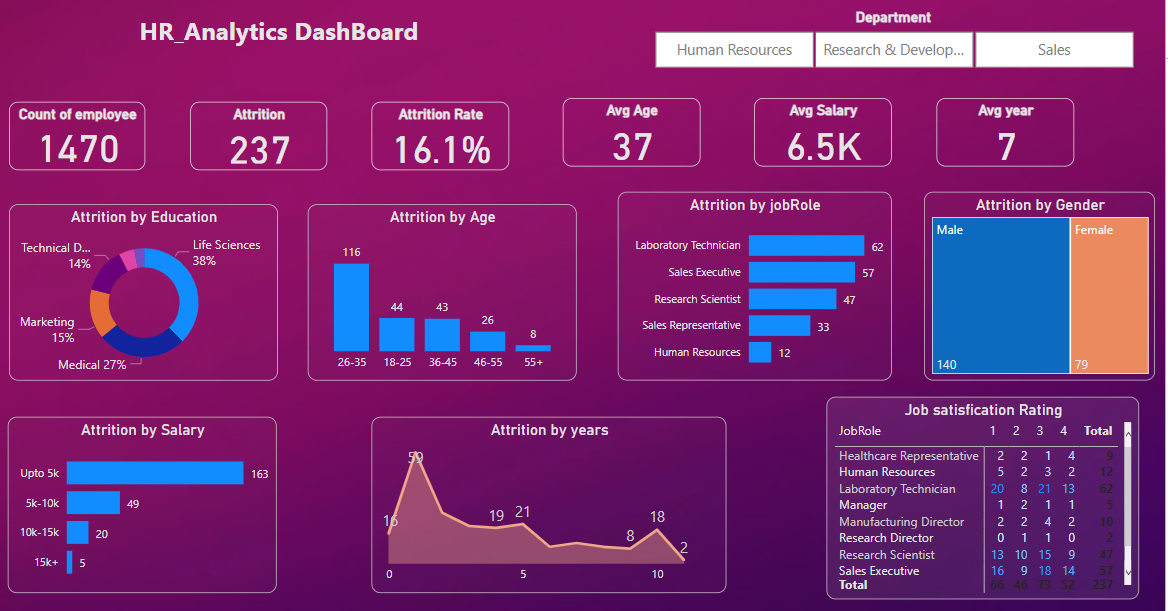

What the dashboard file says about the page in this screenshot:
{"tool":"powerbi","page":{"name":"Page 1","canvas":[1280,720],"ordinal":0},"visuals":[{"type":"card","title":"Count of employee","fields":{"Values":["CountNonNull(HR_Analytics.EmpID)"]},"box":[11,157.8,150,75],"z":0},{"type":"card","title":"Attrition","fields":{"Values":["Sum(HR_Analytics.AttritionCount)"]},"box":[209.9,157.8,150,75],"z":1000},{"type":"card","title":"Attrition Rate","fields":{"Values":["HR_Analytics.AttritionRate"]},"box":[408.9,157.8,150.9,75.5],"z":2000},{"type":"card","title":"Avg Age","fields":{"Values":["Avg(HR_Analytics.Age)"]},"box":[618.9,153.7,150.9,75.5],"z":3000},{"type":"card","title":"Avg Salary","fields":{"Values":["Avg(HR_Analytics.MonthlyIncome)"]},"box":[828.8,153.7,150.9,75.5],"z":4000},{"type":"card","title":"Avg year","fields":{"Values":["Avg(HR_Analytics.YearsAtCompany)"]},"box":[1029.2,153.7,150.9,75.5],"z":5000},{"type":"donutChart","title":"Attrition by Education","fields":{"Category":["HR_Analytics.EducationField"],"Y":["Sum(HR_Analytics.AttritionCount)"]},"box":[11,270.3,295,193.5],"z":6000},{"type":"columnChart","title":"Attrition by Age","fields":{"Category":["HR_Analytics.AgeGroup"],"Y":["Sum(HR_Analytics.AttritionCount)"]},"box":[338.9,270.3,295,193.5],"z":7000},{"type":"pivotTable","title":"Job satisfication Rating","fields":{"Rows":["HR_Analytics.JobRole"],"Columns":["HR_Analytics.JobSatisfaction"],"Values":["Sum(HR_Analytics.AttritionCount)"]},"box":[908.4,481.6,343.1,222.3],"z":8000},{"type":"clusteredBarChart","title":"Attrition by jobRole","fields":{"Category":["HR_Analytics.JobRole"],"Y":["Sum(HR_Analytics.AttritionCount)"]},"box":[679.2,256.6,300.5,207.2],"z":9000},{"type":"clusteredBarChart","title":"Attrition by Salary","fields":{"Category":["HR_Analytics.SalarySlab"],"Y":["Sum(HR_Analytics.AttritionCount)"]},"box":[9.6,503.6,295,193.5],"z":10000},{"type":"areaChart","title":"Attrition by years","fields":{"Category":["HR_Analytics.YearsAtCompany"],"Y":["Sum(HR_Analytics.AttritionCount)"]},"box":[408.9,503.6,389.7,193.5],"z":11000},{"type":"treemap","title":"Attrition by Gender","fields":{"Group":["HR_Analytics.Gender"],"Values":["Sum(HR_Analytics.AttritionCount)"]},"box":[1015.4,256.6,253.9,207.2],"z":12000},{"type":"slicer","title":"Department","fields":{"Values":["HR_Analytics.Department"]},"box":[694.3,56.3,575,71.4],"z":12001},{"type":"textbox","box":[11,56.3,592.8,60.4],"z":12002}]}

Visuals, with their boxes on the page's 1280x720 design canvas (x1, y1, x2, y2). These are canvas units, not pixel positions in the 1168x611 screenshot, which may show the page scaled, cropped or inside an application window:
"Count of employee" card: <region>11, 158, 161, 233</region>
"Attrition" card: <region>210, 158, 360, 233</region>
"Attrition Rate" card: <region>409, 158, 560, 233</region>
"Avg Age" card: <region>619, 154, 770, 229</region>
"Avg Salary" card: <region>829, 154, 980, 229</region>
"Avg year" card: <region>1029, 154, 1180, 229</region>
"Attrition by Education" donutChart: <region>11, 270, 306, 464</region>
"Attrition by Age" columnChart: <region>339, 270, 634, 464</region>
"Job satisfication Rating" pivotTable: <region>908, 482, 1252, 704</region>
"Attrition by jobRole" clusteredBarChart: <region>679, 257, 980, 464</region>
"Attrition by Salary" clusteredBarChart: <region>10, 504, 305, 697</region>
"Attrition by years" areaChart: <region>409, 504, 799, 697</region>
"Attrition by Gender" treemap: <region>1015, 257, 1269, 464</region>
"Department" slicer: <region>694, 56, 1269, 128</region>
textbox: <region>11, 56, 604, 117</region>
